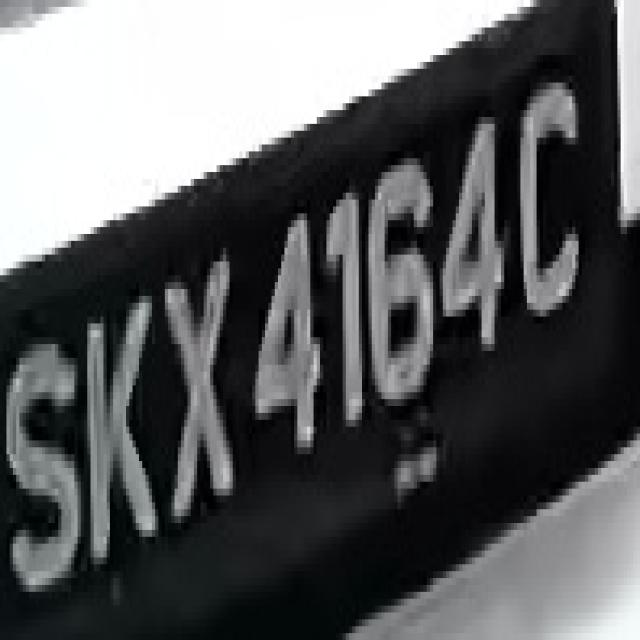1: (326, 200, 372, 468)
4: (430, 82, 514, 372), (249, 206, 326, 468)
6: (368, 151, 439, 413)
C: (517, 41, 582, 337)
K: (78, 303, 158, 564)
S: (10, 317, 81, 626)
X: (162, 234, 246, 530)
